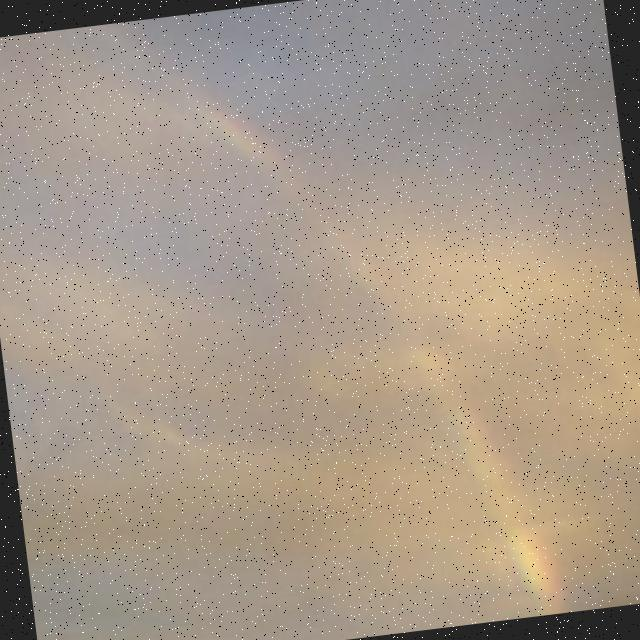As: (1, 1, 640, 628)
